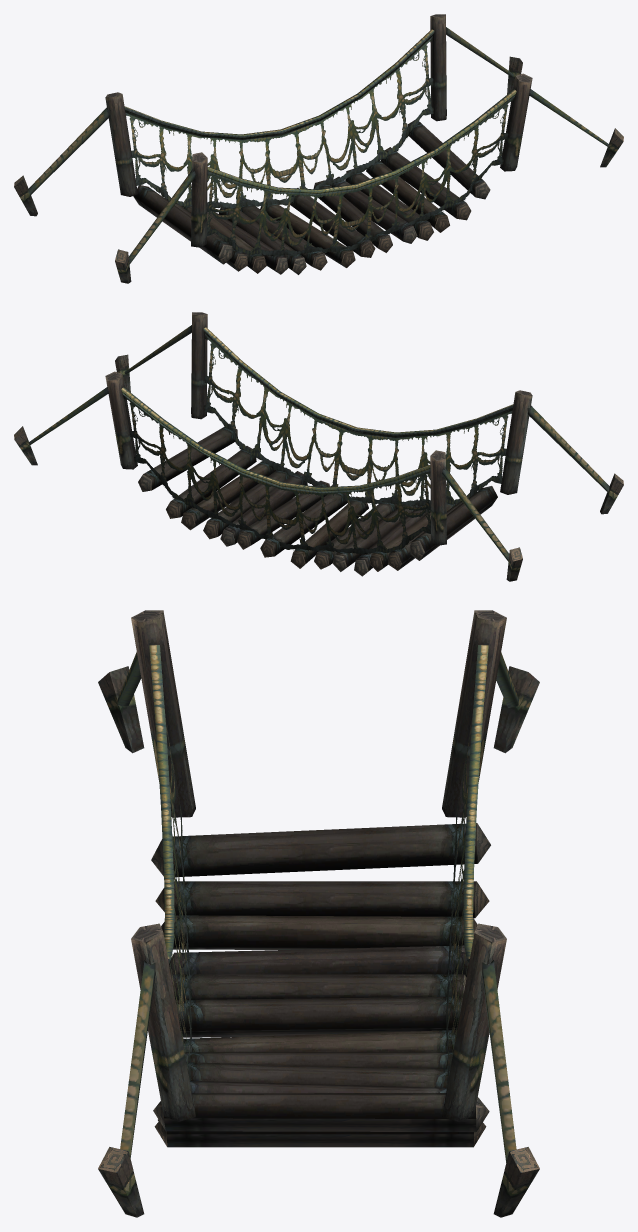
The model's file is cave_bridge_01.fbx.
3 views of the same model, one above another, from view 1: azimuth 30°, elevation 25°; view 2: azimuth 150°, elevation 25°; view 3: azimuth 270°, elevation 25° (orthographic). The views are drawn at different scales.
Visible parts, largest first — view 1: cave_tileset/bridge01_shadow; view 2: cave_tileset/bridge01_shadow; view 3: cave_tileset/bridge01_shadow.
Part boxes in pixels (x1,y1,x2,y2): cave_tileset/bridge01_shadow: (14,14,623,283); cave_tileset/bridge01_shadow: (14,312,623,581); cave_tileset/bridge01_shadow: (98,610,539,1217).
Bounding box in the file's own units: 10.84 × 3.15 × 4.08.
